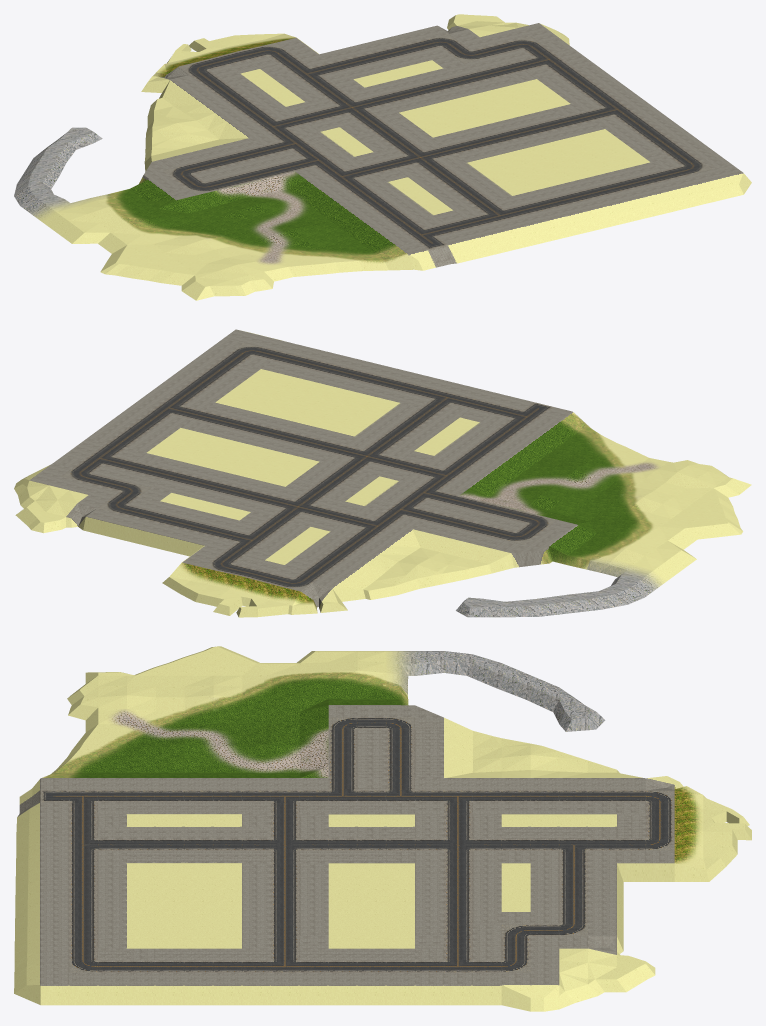
Rendered from MapFloor.glb.
The picture shows the model from 3 angles, top to bottom: view 1: azimuth 30°, elevation 25°; view 2: azimuth 150°, elevation 25°; view 3: azimuth 270°, elevation 25°; orthographic projection. The views are drawn at different scales.
Parts seen in each view (by area): view 1: map test; view 2: map test; view 3: map test.
Part boxes in pixels (x1,y1,x2,y2): map test: [14, 14, 751, 300]; map test: [14, 329, 751, 617]; map test: [14, 646, 751, 1011].
Bounding box in the file's own units: 120 × 2.43 × 102.
Materials: 1 (1 with a texture image).
